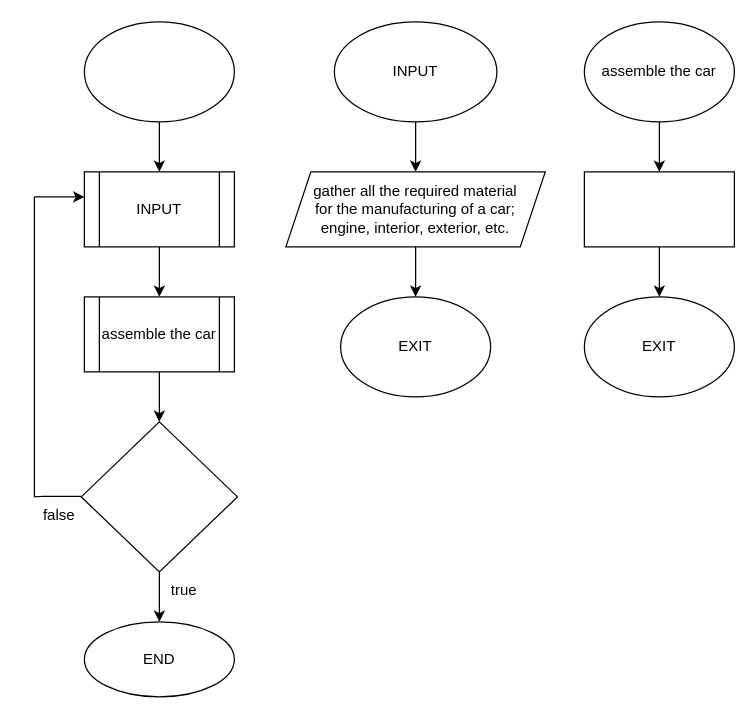
This 756x719 diagram has some shape labels left out. The shapes that lost their labels are listed below. From the top down, each one's centre as x and y in pixels, then its label:
pixel 158 71: START
pixel 658 209: build the car
pixel 159 496: check if the car is assembled properly and drivable
